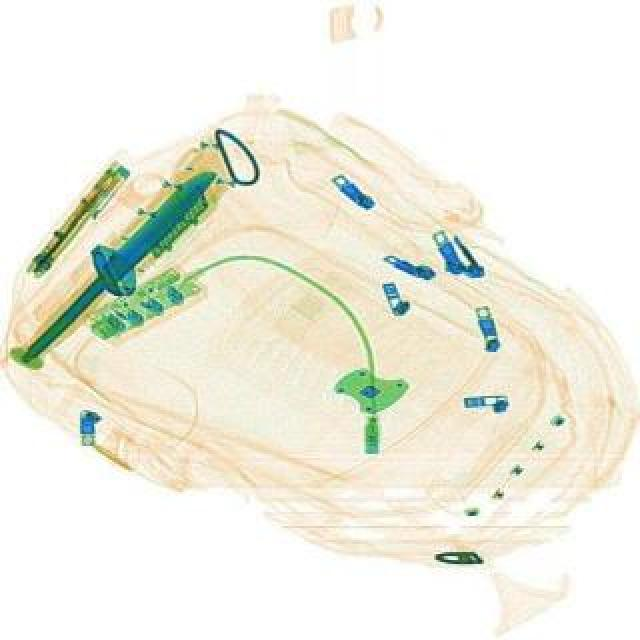knife: (0, 150, 232, 374)
